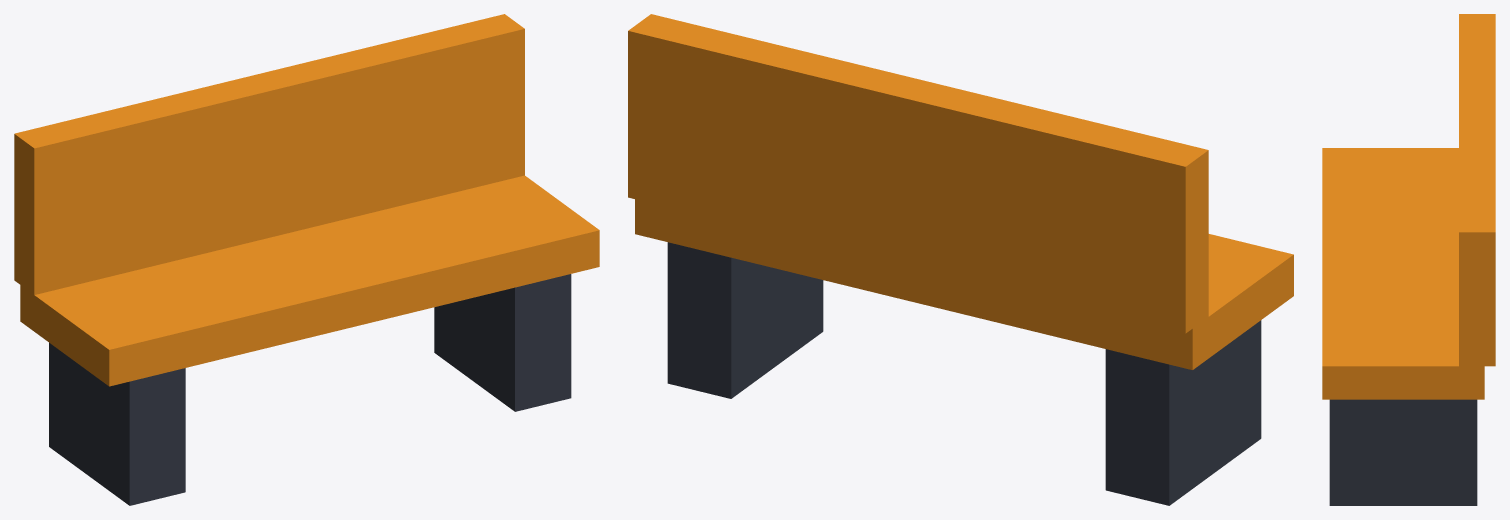
Rendered from prop_bench.glb.
The picture shows the model from 3 angles, left to right: view 1: azimuth 30°, elevation 25°; view 2: azimuth 150°, elevation 25°; view 3: azimuth 270°, elevation 25°; orthographic projection. The views are drawn at different scales.
Parts seen in each view (by area): view 1: prop_bench; view 2: prop_bench; view 3: prop_bench.
Part boxes in pixels (x1=…): prop_bench: x1=14, y1=14, x2=599, y2=505; prop_bench: x1=628, y1=14, x2=1293, y2=505; prop_bench: x1=1322, y1=14, x2=1495, y2=505.
Size of the model in its own units: 0.14 by 0.085 by 0.047.
